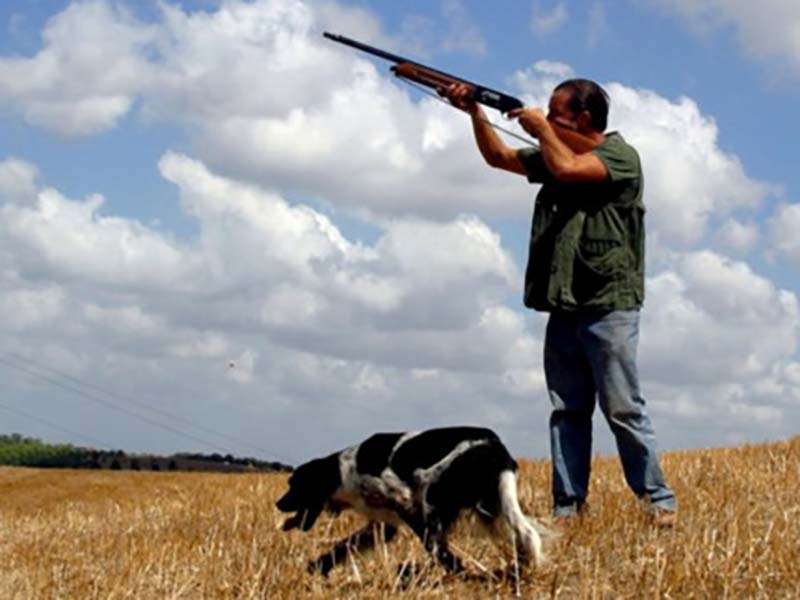cacciatore: (452, 57, 666, 480)
cane da caccia: (273, 411, 549, 588)
fucile: (313, 25, 536, 144)
